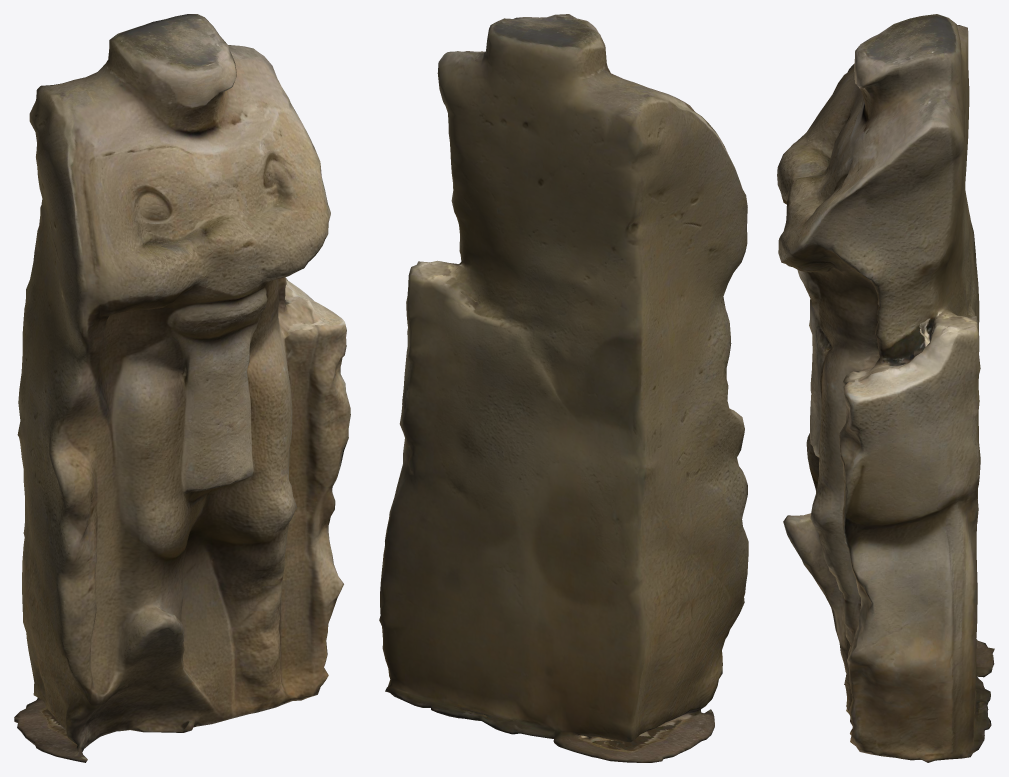
The model's file is Personaje_decapitado.glb.
The picture shows the model from 3 angles, left to right: view 1: azimuth 30°, elevation 25°; view 2: azimuth 150°, elevation 25°; view 3: azimuth 270°, elevation 25°; orthographic projection. The views are drawn at different scales.
Visible parts, largest first — view 1: Mesh1.0; view 2: Mesh1.0; view 3: Mesh1.0.
Part boxes in pixels (x1,y1,x2,y2): Mesh1.0: [14, 14, 350, 762]; Mesh1.0: [379, 14, 748, 762]; Mesh1.0: [777, 14, 994, 762].
Bounding box in the file's own units: 0.2337 × 0.5 × 0.1481.
1 material, 1 textured.
